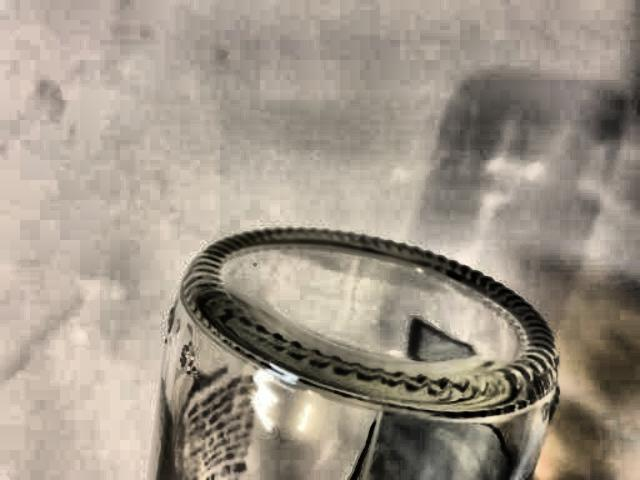Bottles: (125, 213, 561, 480)
